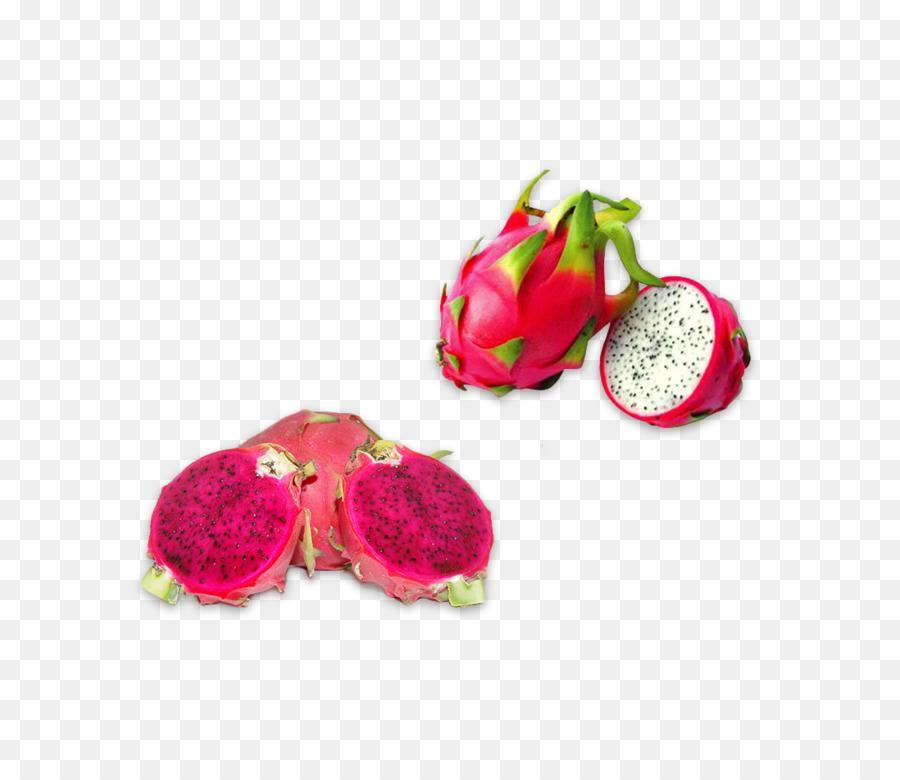dragon-fruit: (437, 223, 607, 391), (336, 449, 495, 600), (238, 409, 382, 573), (146, 447, 303, 597), (598, 273, 746, 430)
